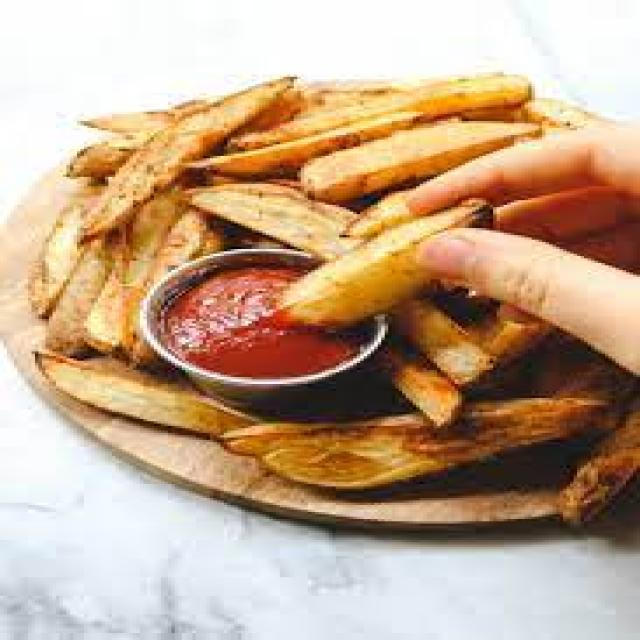Fries: (83, 110, 640, 508)
